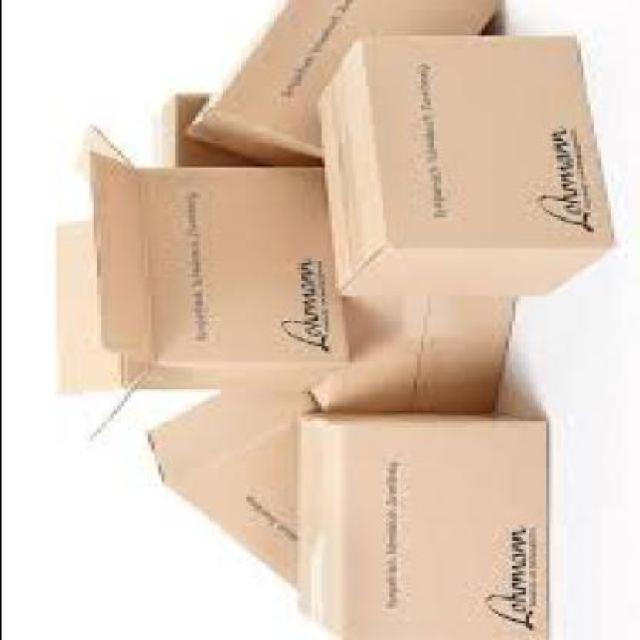CARDBOARD: (51, 126, 347, 442), (310, 35, 608, 303), (292, 416, 550, 638), (177, 2, 497, 166), (139, 394, 324, 591), (299, 298, 518, 416), (143, 96, 320, 170)
